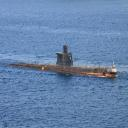submarine: (10, 43, 117, 78)
